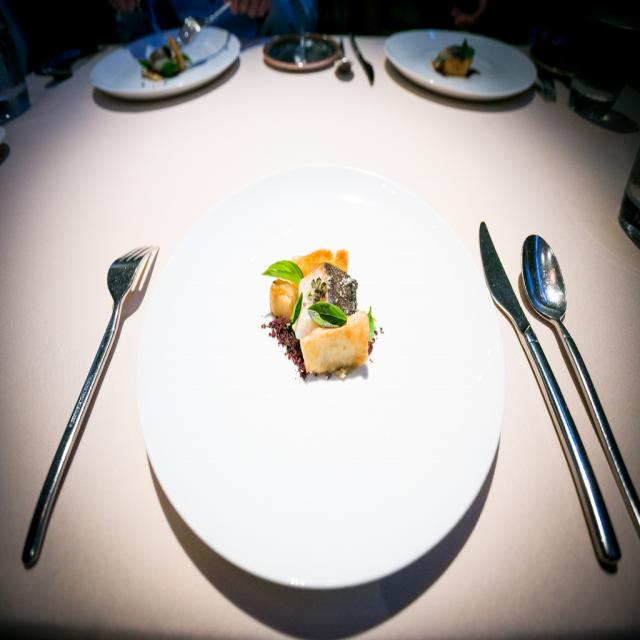non-organic waste: (357, 13, 556, 116)
